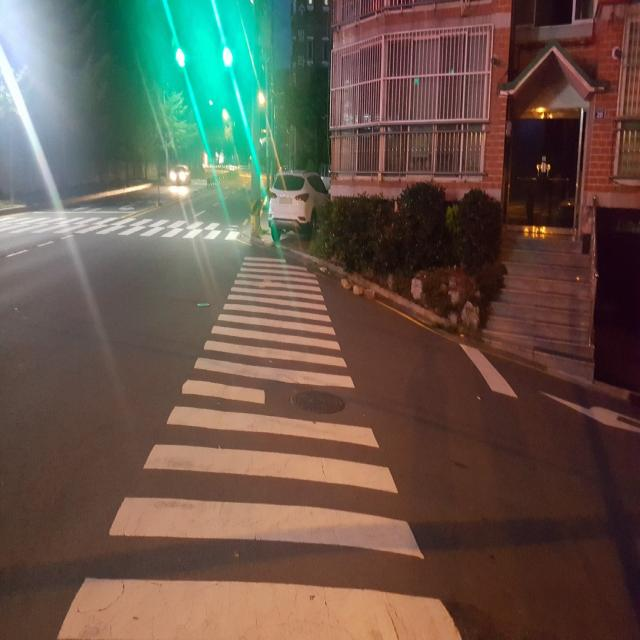횡단보도: (57, 255, 463, 640), (0, 215, 243, 245)
